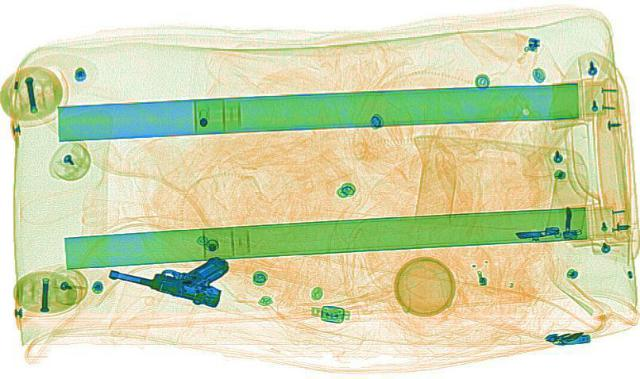Gun: (102, 246, 246, 307)
